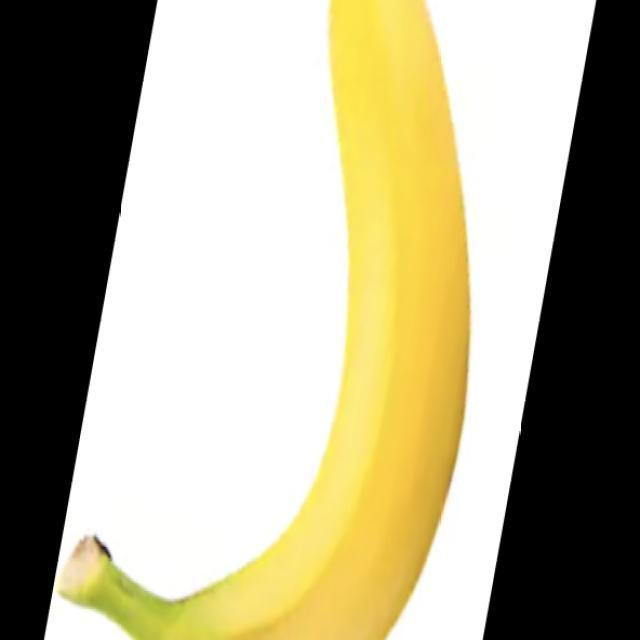Banana: (54, 0, 471, 639)
